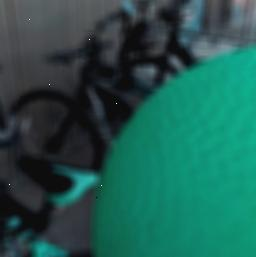algae: (91, 38, 256, 257)
